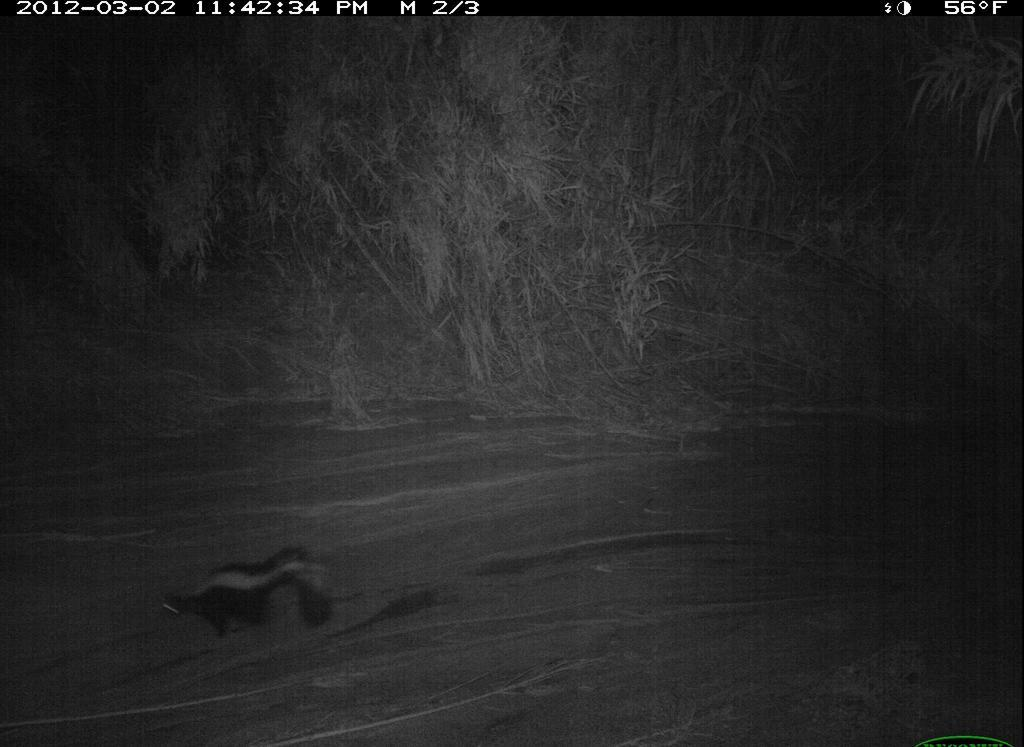skunk: (141, 520, 346, 667)
